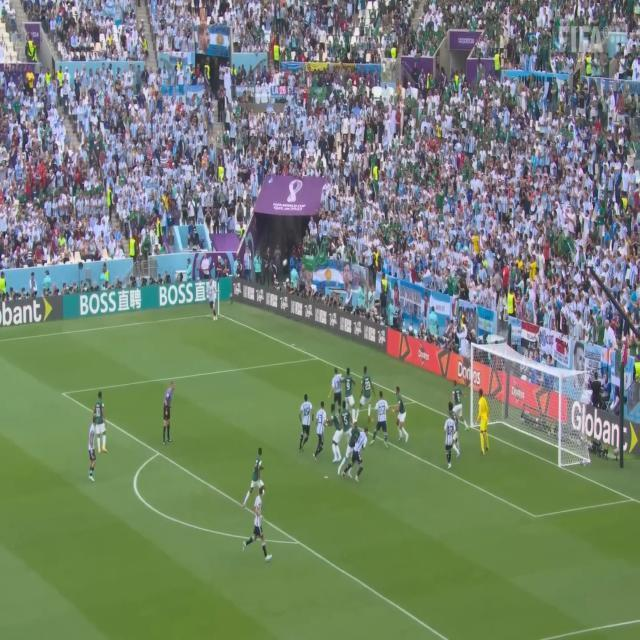player: (244, 483, 271, 563), (247, 444, 267, 507), (393, 384, 414, 444), (94, 386, 111, 454), (442, 409, 461, 469), (478, 385, 493, 460), (300, 389, 316, 456), (375, 385, 392, 448), (361, 362, 377, 427), (331, 405, 345, 475), (344, 359, 359, 421), (452, 381, 467, 439), (356, 420, 369, 485), (315, 401, 330, 457), (206, 273, 221, 325), (88, 418, 99, 488), (347, 423, 360, 476), (333, 365, 346, 415)
